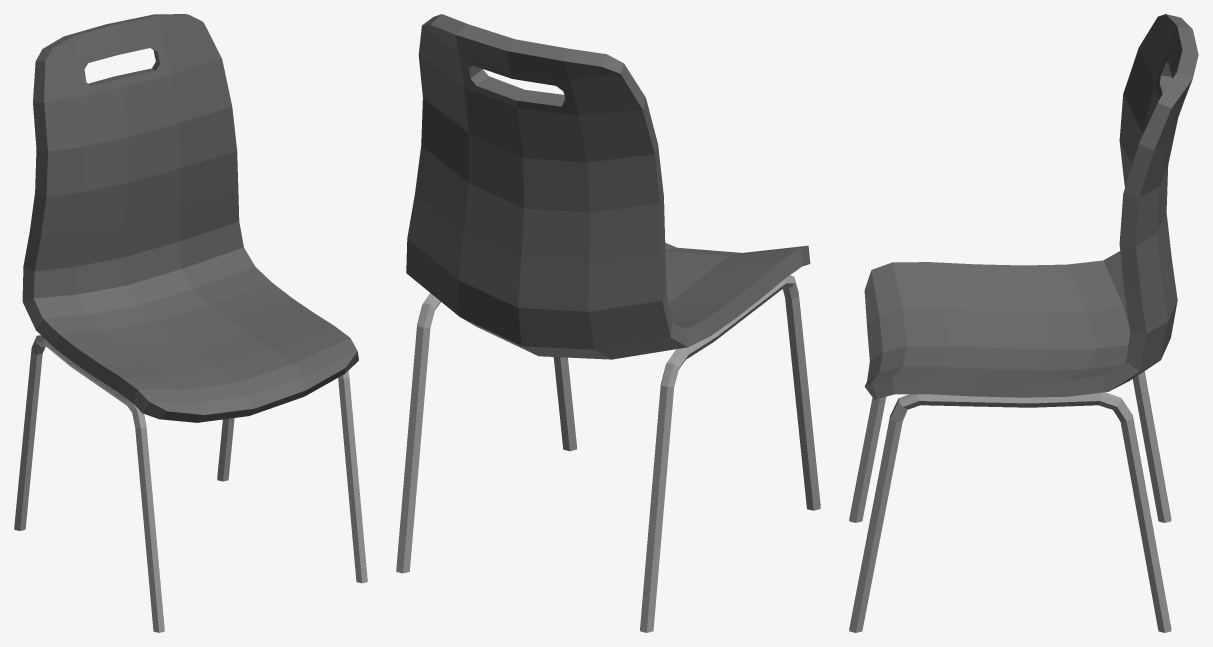
Rendered from Int_KitchenChair01_1.fbx.
The picture shows the model from 3 angles, left to right: view 1: azimuth 30°, elevation 25°; view 2: azimuth 150°, elevation 25°; view 3: azimuth 270°, elevation 25°; orthographic projection. The views are drawn at different scales.
Parts seen in each view (by area): view 1: Int_KitchenChair01_1; view 2: Int_KitchenChair01_1; view 3: Int_KitchenChair01_1.
Part boxes in pixels (x1,y1,x2,y2): Int_KitchenChair01_1: (14,14,367,632); Int_KitchenChair01_1: (396,14,820,632); Int_KitchenChair01_1: (849,14,1198,632).
Size of what is drawn, in the model's own units: 67.05 by 82.31 by 137.
